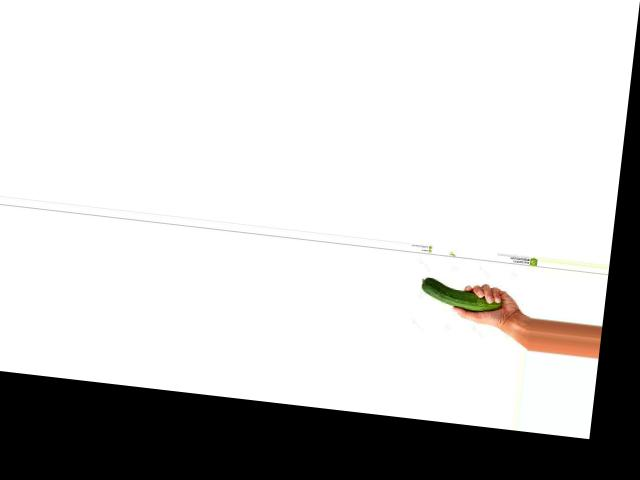cucumber: (419, 276, 503, 312)
